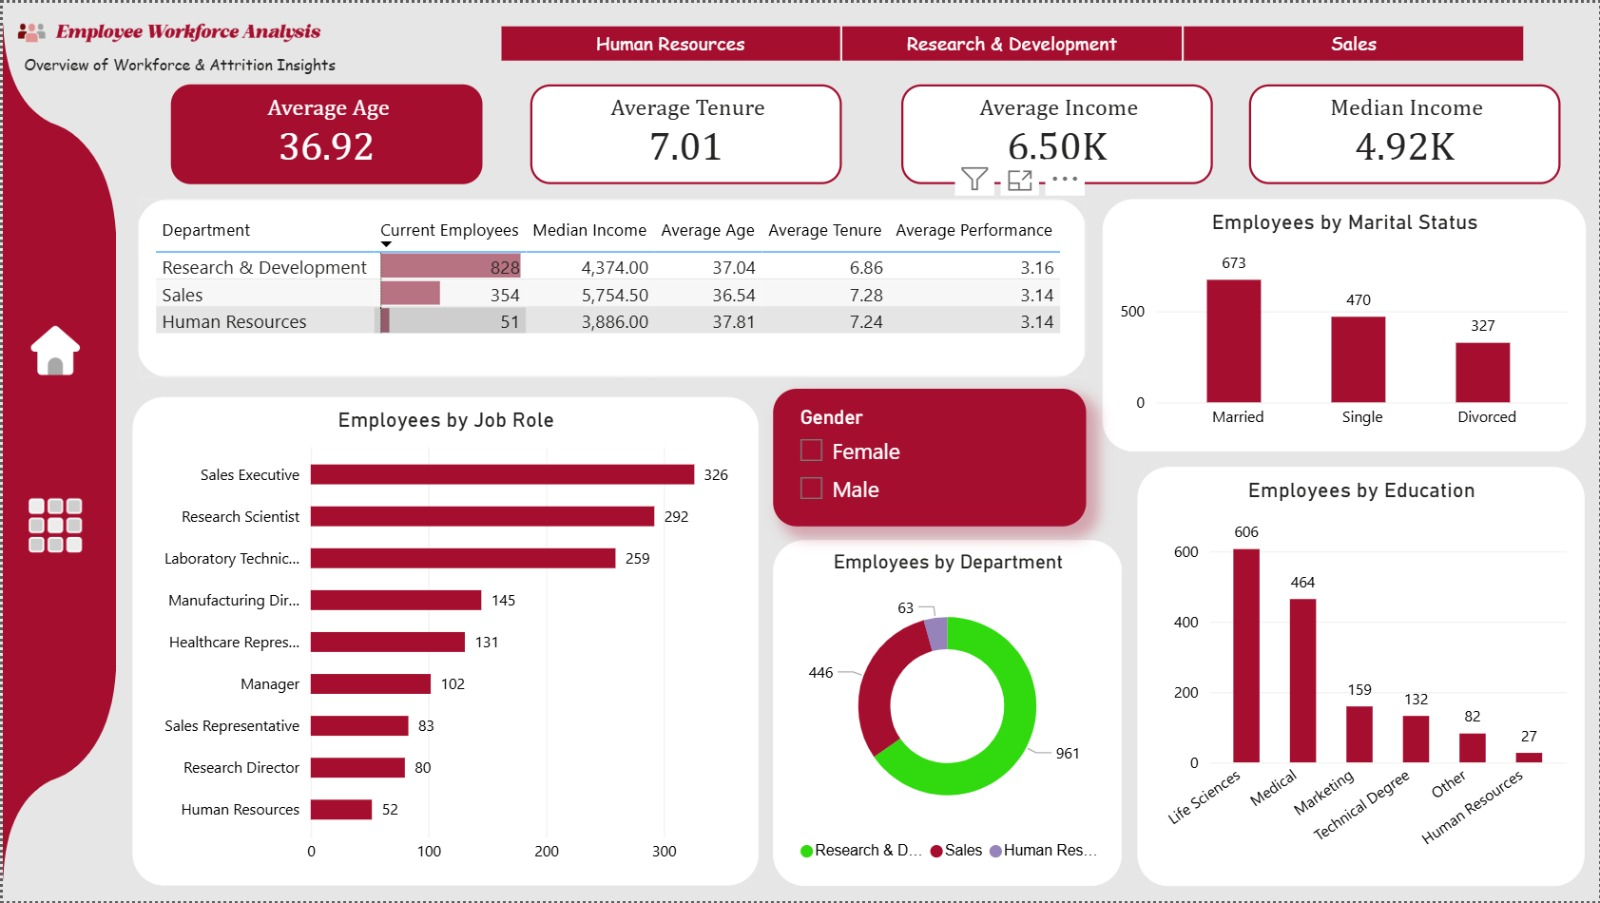

The page's visual inventory and layout, read from the dashboard file:
{"tool":"powerbi","page":{"name":"Employees","canvas":[1280,720],"ordinal":1},"visuals":[{"type":"image","box":[0,0,90.6,719.4],"z":0},{"type":"image","box":[14.4,256,55.1,44.6],"z":1000},{"type":"image","box":[14.4,396.5,55.1,46],"z":2000},{"type":"image","box":[0,0,266.7,48],"z":3000},{"type":"textbox","box":[12,34.7,272,34.7],"z":4000},{"type":"slicer","fields":{"Values":["HR Projects.Department"]},"box":[372.9,11.8,869.1,40.7],"z":5000},{"type":"card","title":"Average Age","fields":{"Values":["ِِAA_Measures.Average Age"]},"box":[135.2,66,249.4,80.1],"z":6000},{"type":"card","title":"Average Tenure","fields":{"Values":["ِِAA_Measures.Average YAC"]},"box":[422.7,66,249.4,80.1],"z":7000},{"type":"card","title":"Average Income","fields":{"Values":["ِِAA_Measures.Average Month Income"]},"box":[719.4,66,249.4,80.1],"z":8000},{"type":"card","title":"Median Income","fields":{"Values":["ِِAA_Measures.Median Monthly Income"]},"box":[999.1,66,249.4,80.1],"z":9000},{"type":"clusteredBarChart","title":"Employees by Job Role","fields":{"Category":["HR Projects.JobRole"],"Y":["ِِAA_Measures.Total Employees"]},"box":[103.7,316.4,501.5,391.2],"z":10000},{"type":"clusteredColumnChart","title":"Employees by Marital Status","fields":{"Category":["HR Projects.MaritalStatus"],"Y":["ِِAA_Measures.Total Employees"]},"box":[880.9,157.5,387.3,202.2],"z":11000},{"type":"clusteredColumnChart","title":"Employees by Education","fields":{"Y":["ِِAA_Measures.Total Employees"],"Category":["HR Projects.EducationField"]},"box":[909.8,371.5,358.4,336.1],"z":12000},{"type":"donutChart","title":"Employees by Department","fields":{"Y":["ِِAA_Measures.Total Employees"],"Category":["HR Projects.Department"]},"box":[617,430.6,279.6,277],"z":13000},{"type":"tableEx","fields":{"Values":["HR Projects.Department","ِِAA_Measures.Current Employees","ِِAA_Measures.Median Monthly Income","ِِAA_Measures.Average Age","ِِAA_Measures.Average YAC","Avg(HR Projects.PerformanceRating)"]},"box":[107.7,157.5,760.1,143.1],"z":14000},{"type":"slicer","fields":{"Values":["HR Projects.Gender"]},"box":[617,309.8,250.8,110.3],"z":15000}]}

Visuals, with their boxes in screenshot pixels (x1, y1, x2, y2), scaled from the page's 1280x720 canvas onto the 1600x903 screenshot:
image: bbox=[0, 0, 113, 902]
image: bbox=[18, 321, 87, 377]
image: bbox=[18, 497, 87, 555]
image: bbox=[0, 0, 333, 60]
textbox: bbox=[15, 44, 355, 87]
slicer - HR Projects.Department: bbox=[466, 15, 1552, 66]
"Average Age" card: bbox=[169, 83, 481, 183]
"Average Tenure" card: bbox=[528, 83, 840, 183]
"Average Income" card: bbox=[899, 83, 1211, 183]
"Median Income" card: bbox=[1249, 83, 1561, 183]
"Employees by Job Role" clusteredBarChart: bbox=[130, 397, 756, 887]
"Employees by Marital Status" clusteredColumnChart: bbox=[1101, 198, 1585, 451]
"Employees by Education" clusteredColumnChart: bbox=[1137, 466, 1585, 887]
"Employees by Department" donutChart: bbox=[771, 540, 1121, 887]
tableEx - HR Projects.Department x ِِAA_Measures.Current Employees: bbox=[135, 198, 1085, 377]
slicer - HR Projects.Gender: bbox=[771, 389, 1085, 527]
